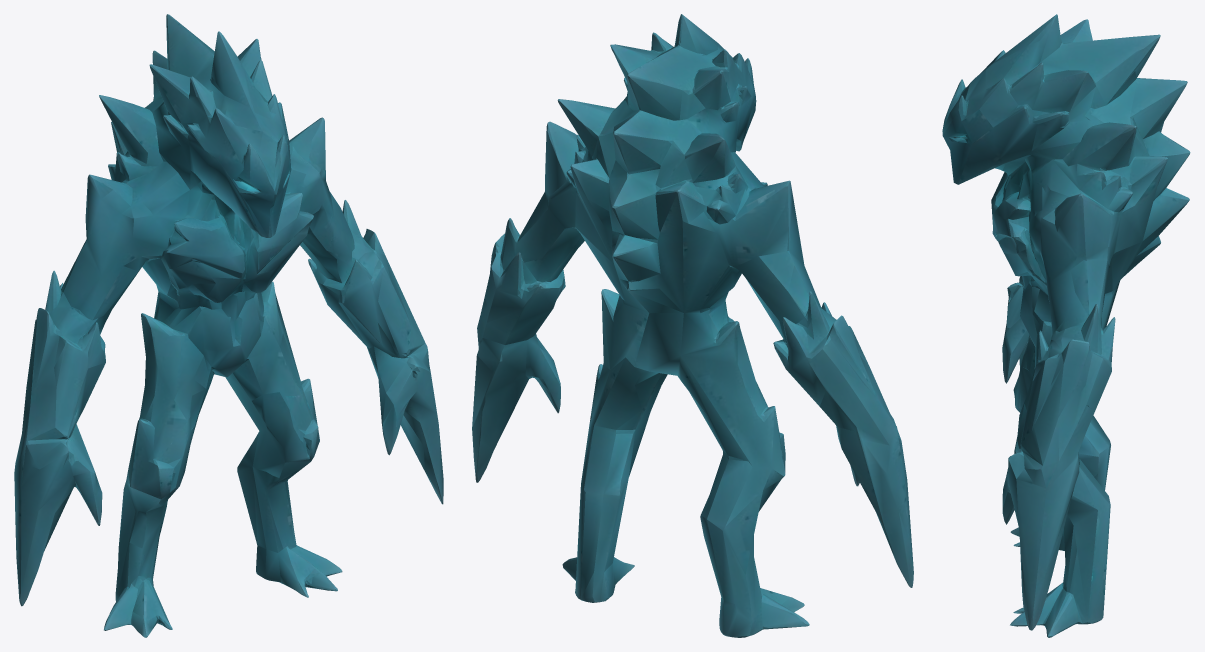
The model's file is ice.glb.
3 renders of one model, left to right at view 1: azimuth 30°, elevation 25°; view 2: azimuth 150°, elevation 25°; view 3: azimuth 270°, elevation 25°, orthographic. The views are drawn at different scales.
Parts seen in each view (by area): view 1: Mesh; view 2: Mesh; view 3: Mesh.
Boxes of the visible parts, box(x1,y1,x2,y2) form: Mesh: box(14, 14, 443, 637); Mesh: box(472, 14, 913, 637); Mesh: box(942, 14, 1190, 637).
Size of the model in its own units: 1.48 by 1.9 by 0.7491.
1 material, 1 textured.
